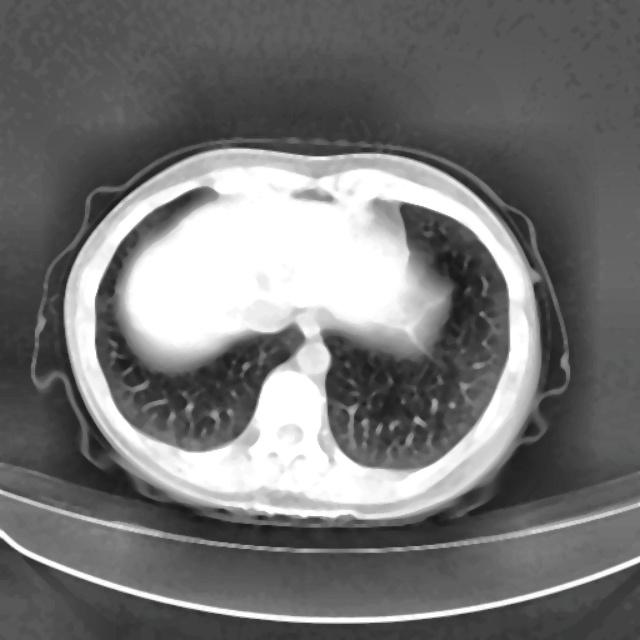covid: (33, 138, 571, 529)
